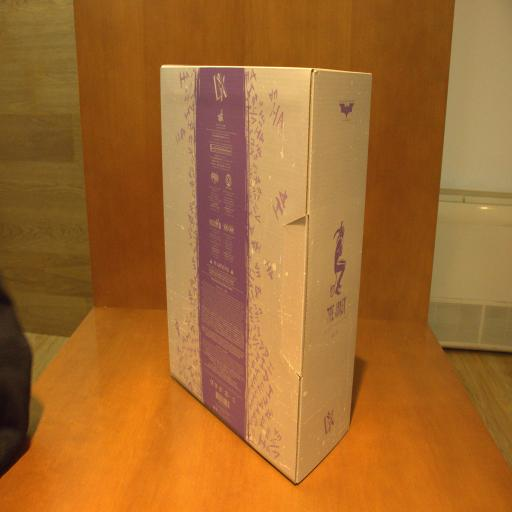Joker: (160, 60, 374, 491)
